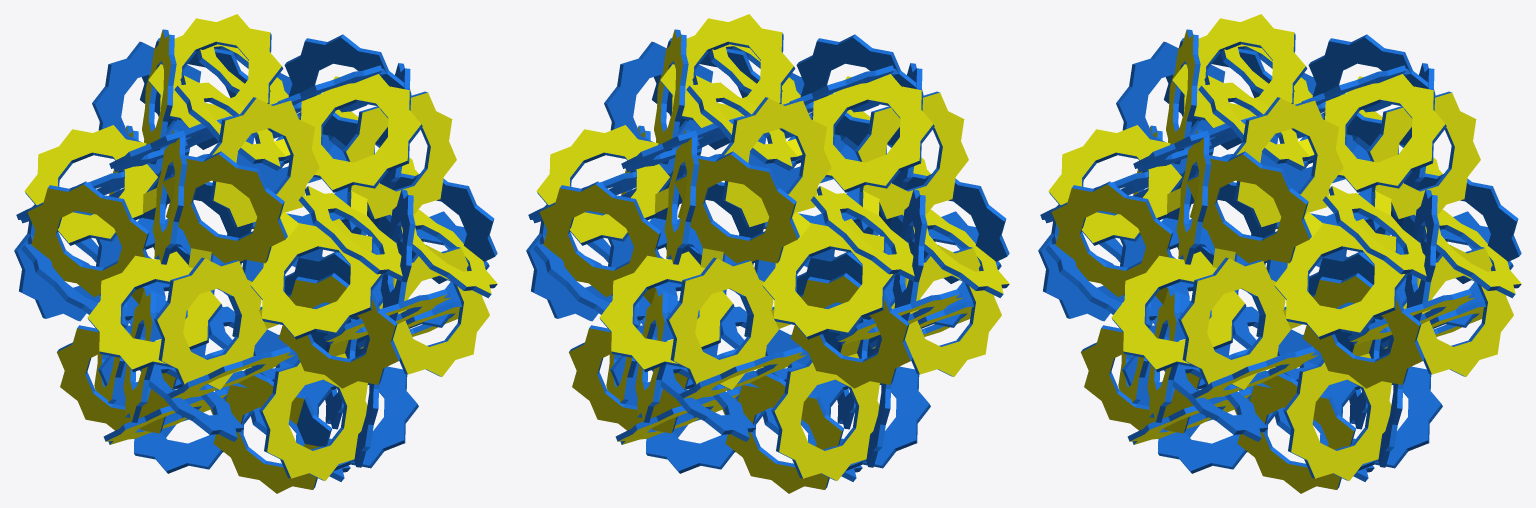
The model's file is StarDodecahedronPolyknot28.glb.
3 renders of one model, left to right at view 1: azimuth 30°, elevation 25°; view 2: azimuth 150°, elevation 25°; view 3: azimuth 270°, elevation 25°, orthographic.
Parts seen in each view (by area): view 1: ESCHER_4.0_DODECAHEDRONa_1Augmented_Dodeca; view 2: ESCHER_4.0_DODECAHEDRONa_1Augmented_Dodeca; view 3: ESCHER_4.0_DODECAHEDRONa_1Augmented_Dodeca.
Part boxes in pixels (x1,y1,x2,y2): ESCHER_4.0_DODECAHEDRONa_1Augmented_Dodeca: [14, 14, 497, 493]; ESCHER_4.0_DODECAHEDRONa_1Augmented_Dodeca: [526, 14, 1009, 493]; ESCHER_4.0_DODECAHEDRONa_1Augmented_Dodeca: [1038, 14, 1521, 493].
Bounding box in the file's own units: 98.62 × 90.72 × 100.
